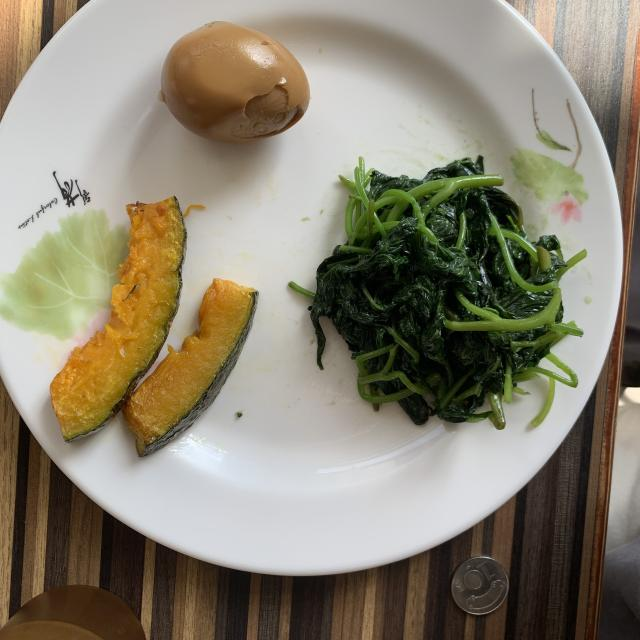coin: (451, 556, 509, 615)
pumpkin: (50, 196, 258, 455)
soy egg: (159, 21, 310, 142)
sweet potato leaves: (290, 158, 586, 429)
